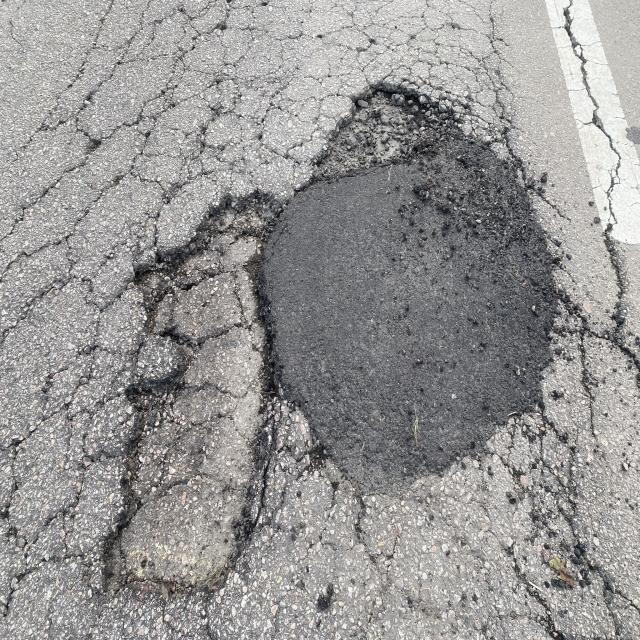Pothole: (85, 174, 270, 640), (282, 44, 481, 218)
